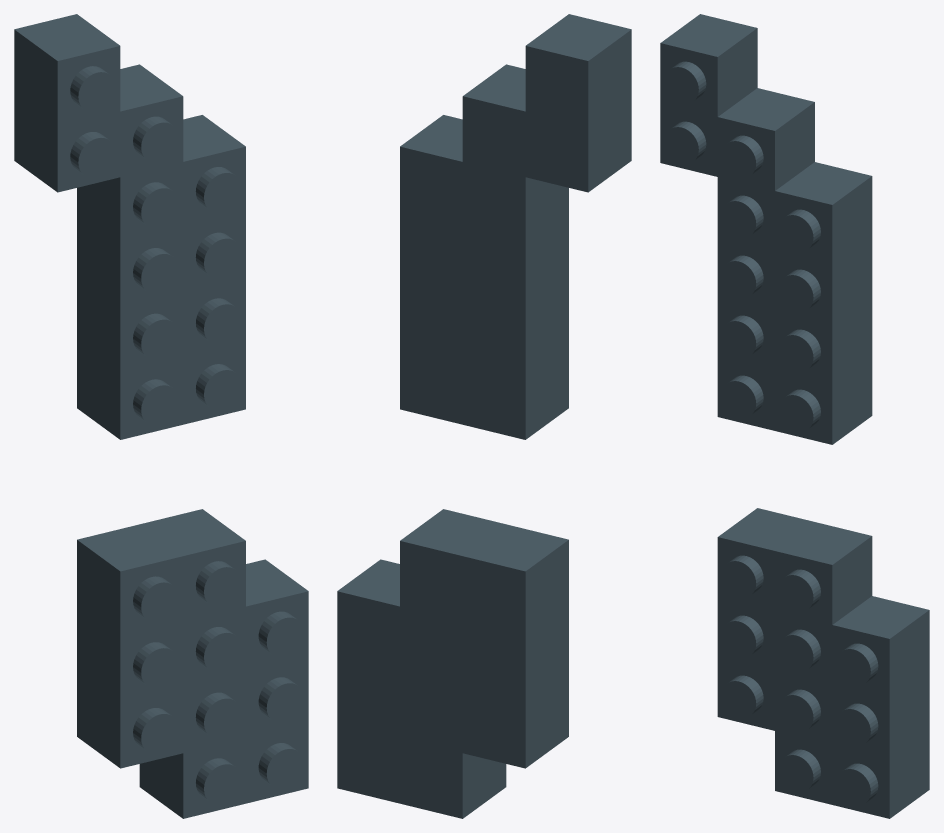
File: current.glb
3 renders of one model, left to right at view 1: azimuth 30°, elevation 25°; view 2: azimuth 150°, elevation 25°; view 3: azimuth 330°, elevation 25°, orthographic. The views are drawn at different scales.
Parts seen in each view (by area): view 1: world; view 2: world; view 3: world.
Boxes of the visible parts, x1,y1,x2,y2 form: world: (14, 14, 308, 818); world: (337, 14, 631, 818); world: (660, 14, 929, 818).
Bounding box in the file's own units: 32 × 96 × 11.4.
